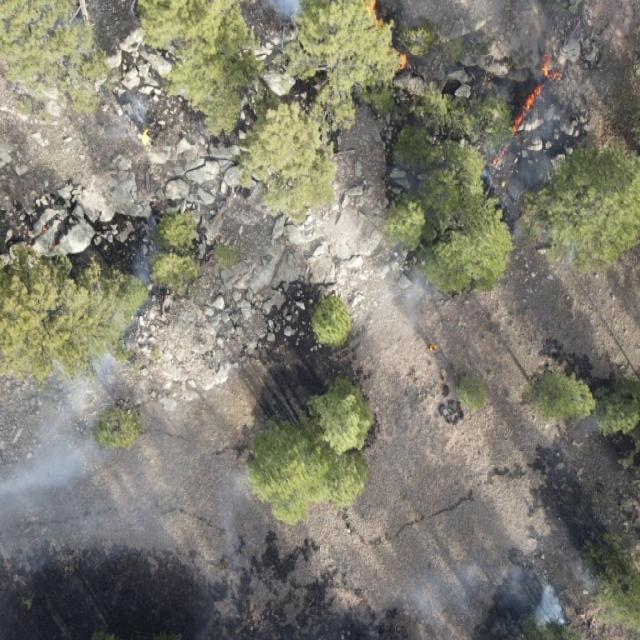fire: (485, 52, 559, 180), (364, 0, 416, 75)
smoke: (0, 287, 170, 575), (378, 556, 585, 640), (306, 224, 434, 318), (208, 456, 268, 626), (128, 215, 172, 286), (106, 89, 154, 143), (244, 0, 311, 32)
